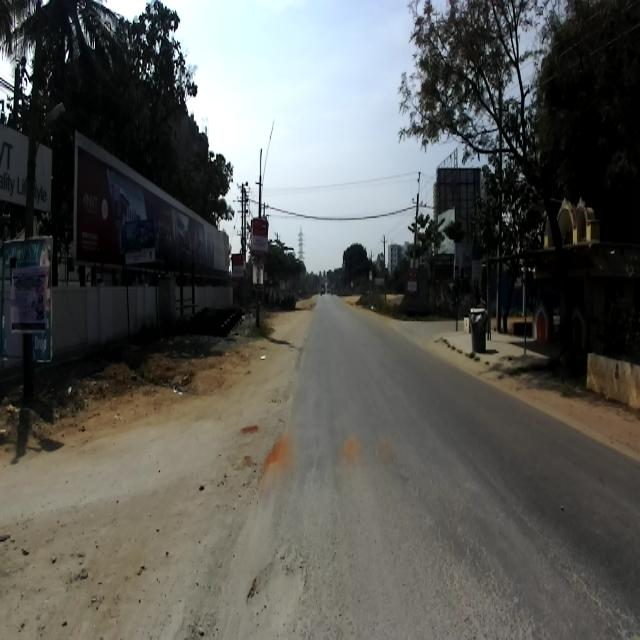electric pole ahead at: (248, 148, 272, 342)
